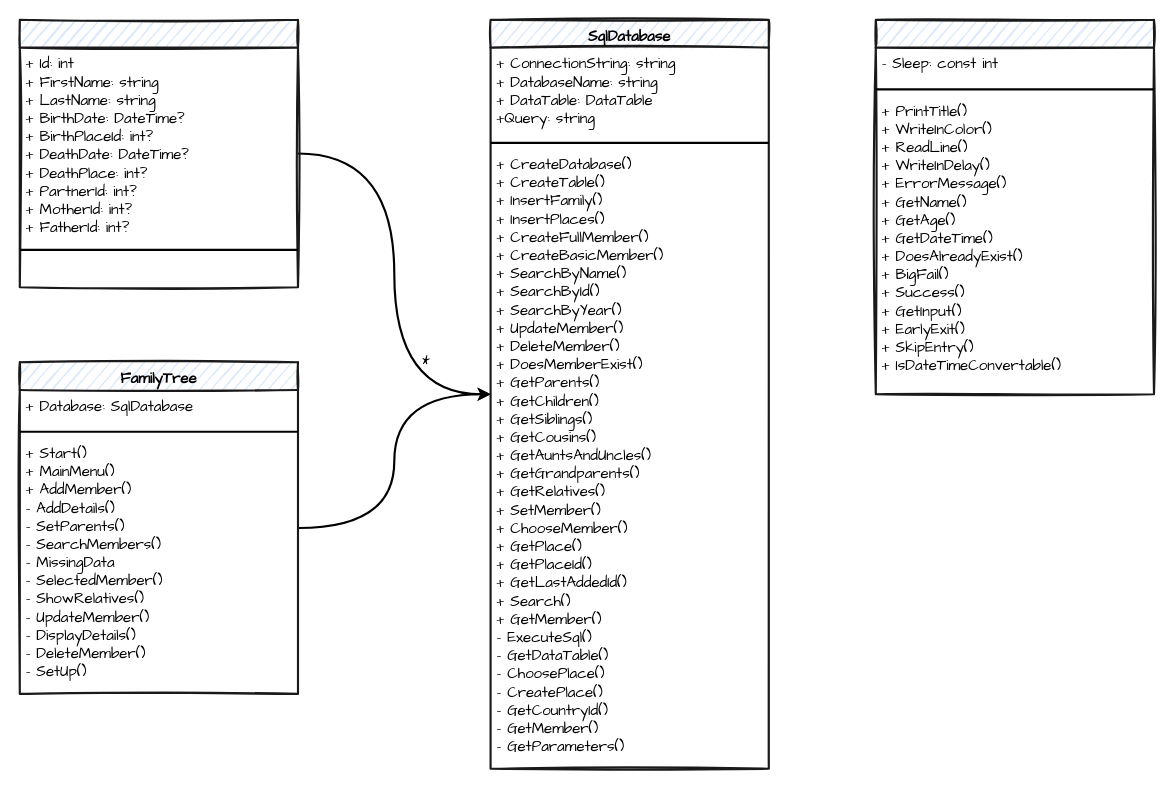
Some shapes in this 1173 by 790 pixel diagram are drawn without their labels. The box of each missing label's shape, as (x1, y1, x2, y2) in pixels:
Person: (18, 18, 299, 288)
Utility: (874, 18, 1155, 395)
